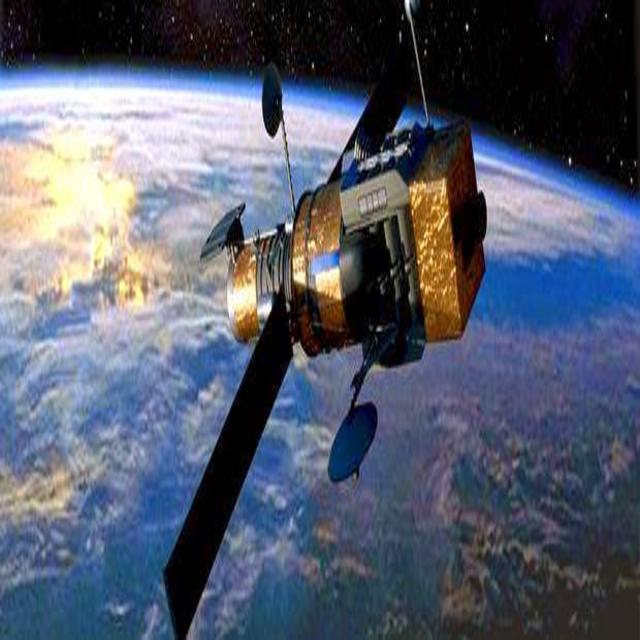medium_debris: (156, 0, 503, 640)
